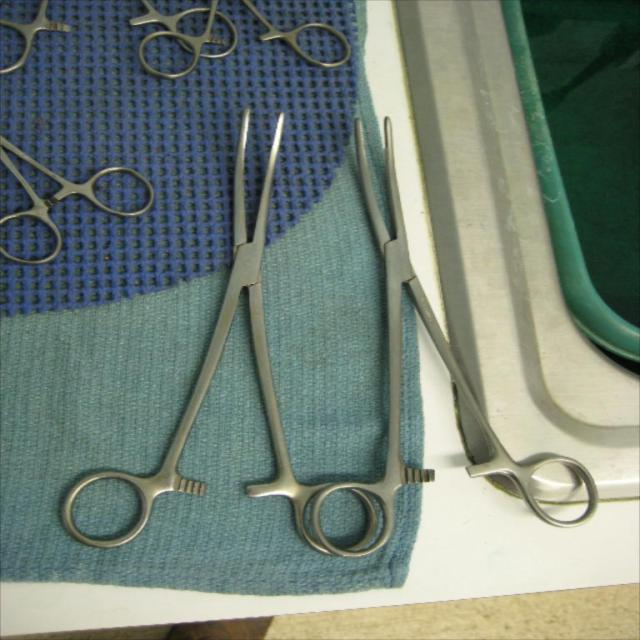scissors: (0, 135, 153, 264), (128, 0, 238, 79), (242, 0, 351, 68), (0, 0, 73, 74)
